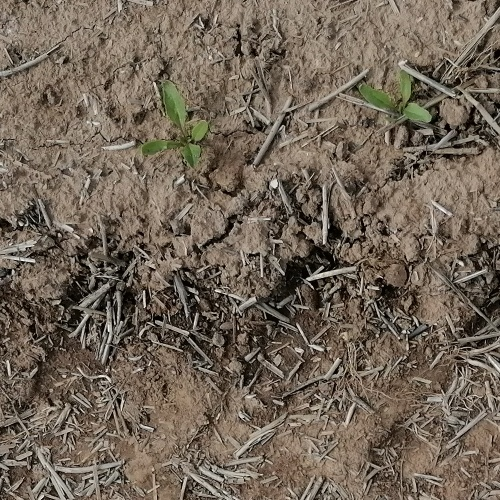beet: (140, 81, 208, 166), (355, 69, 435, 128)
